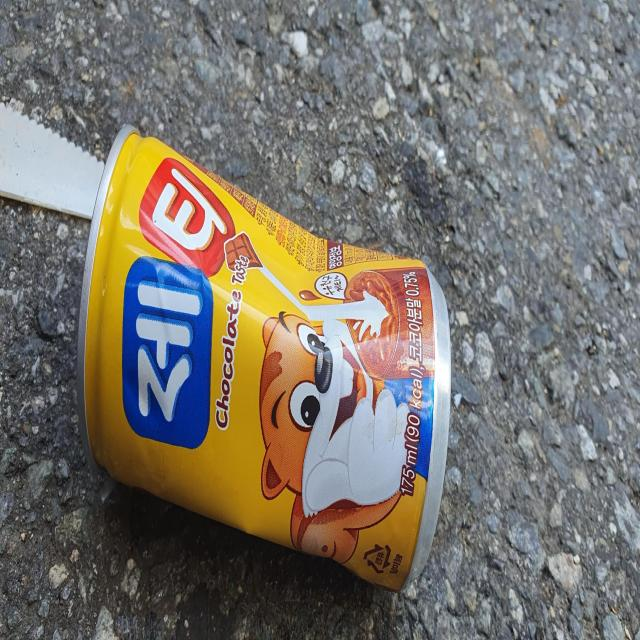can: (77, 126, 451, 591)
